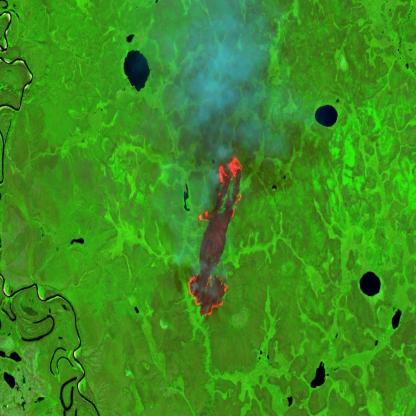fire: (180, 154, 246, 322)
